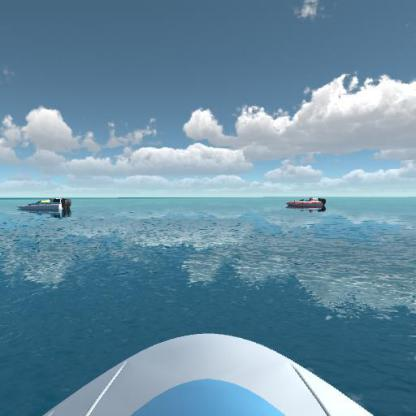usv1: (19, 197, 74, 219)
usv2: (34, 192, 64, 205)
usv3: (283, 194, 327, 214)
